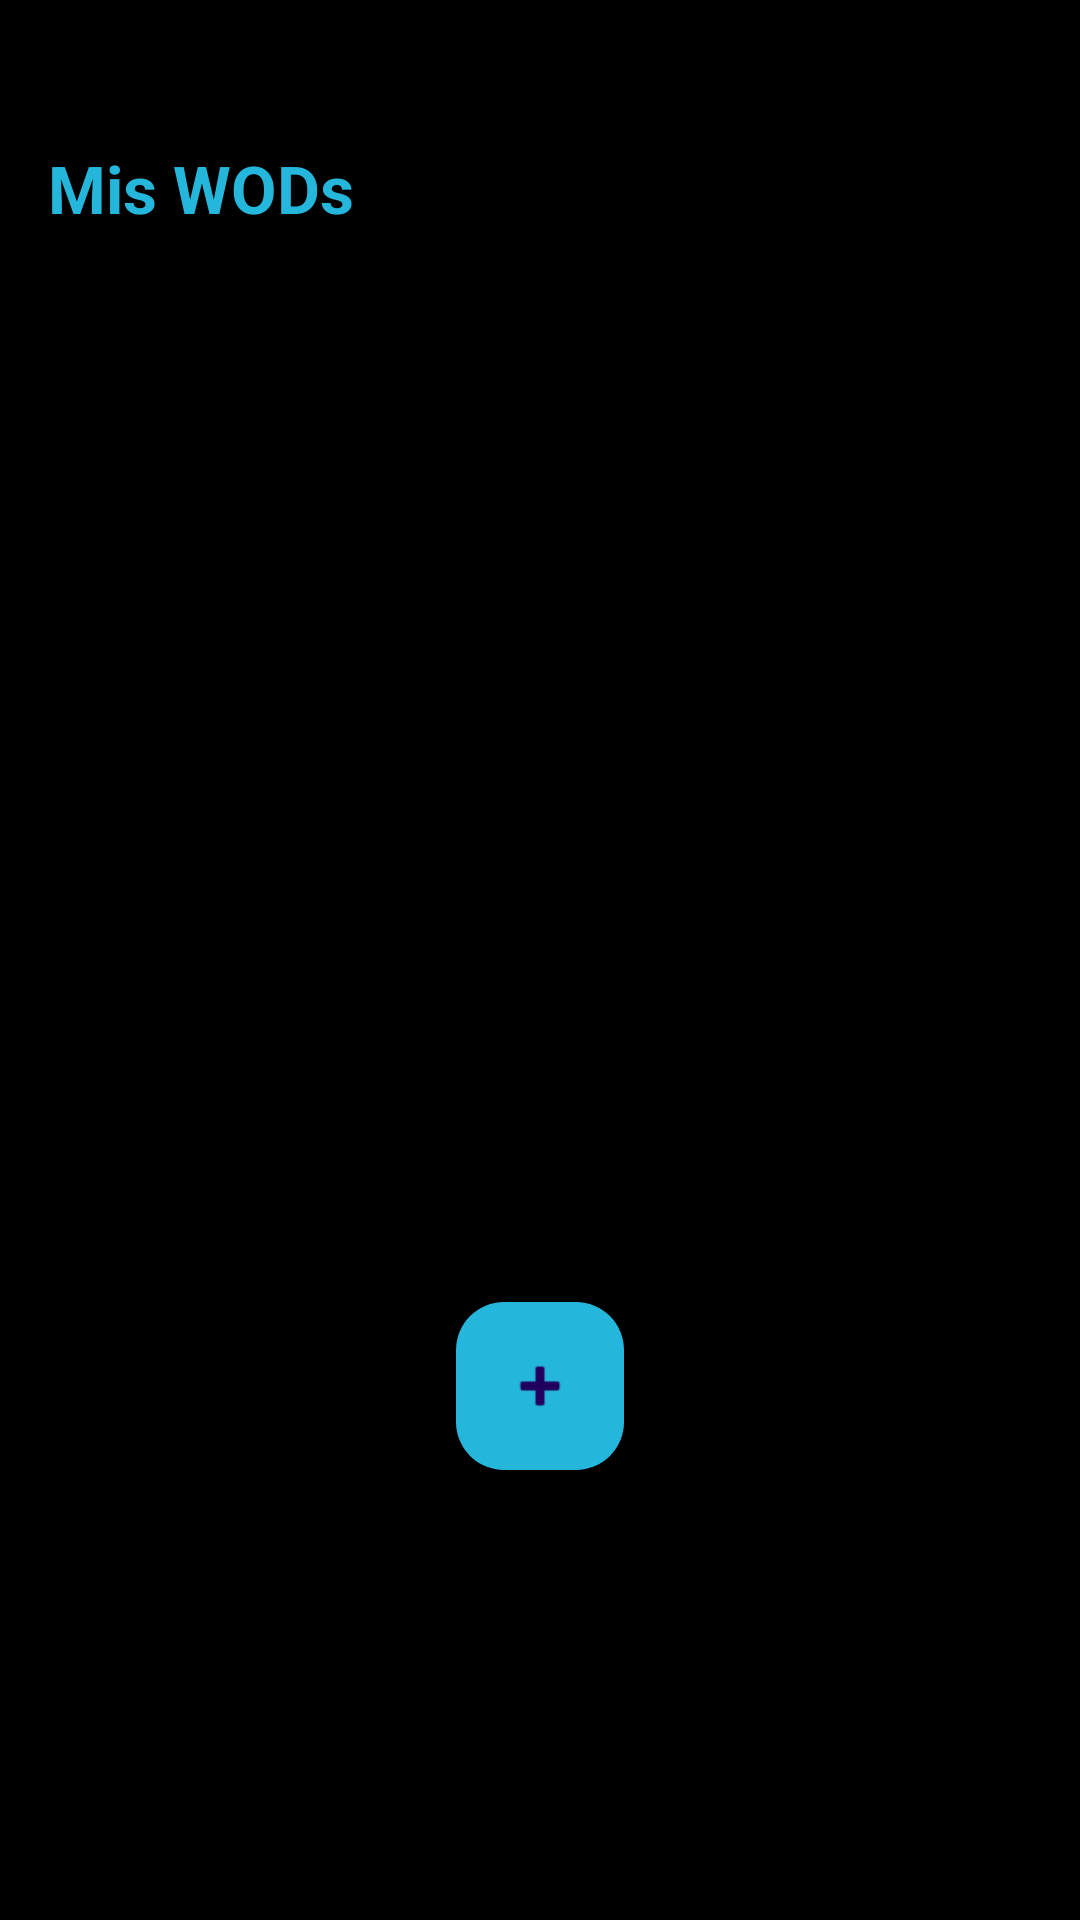

Where icons sit on this 1080 × 1920 app screen, as (x1, y1, x2, y2):
add: (456, 1302, 624, 1470)
